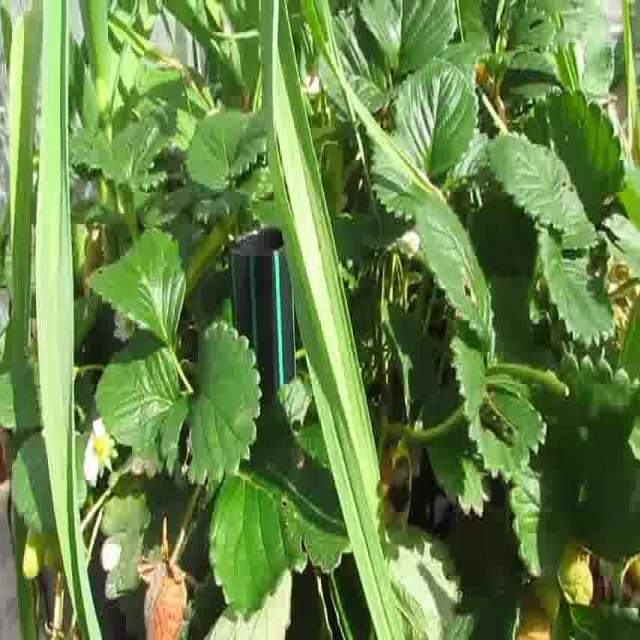Moho gris: (139, 550, 189, 640)
